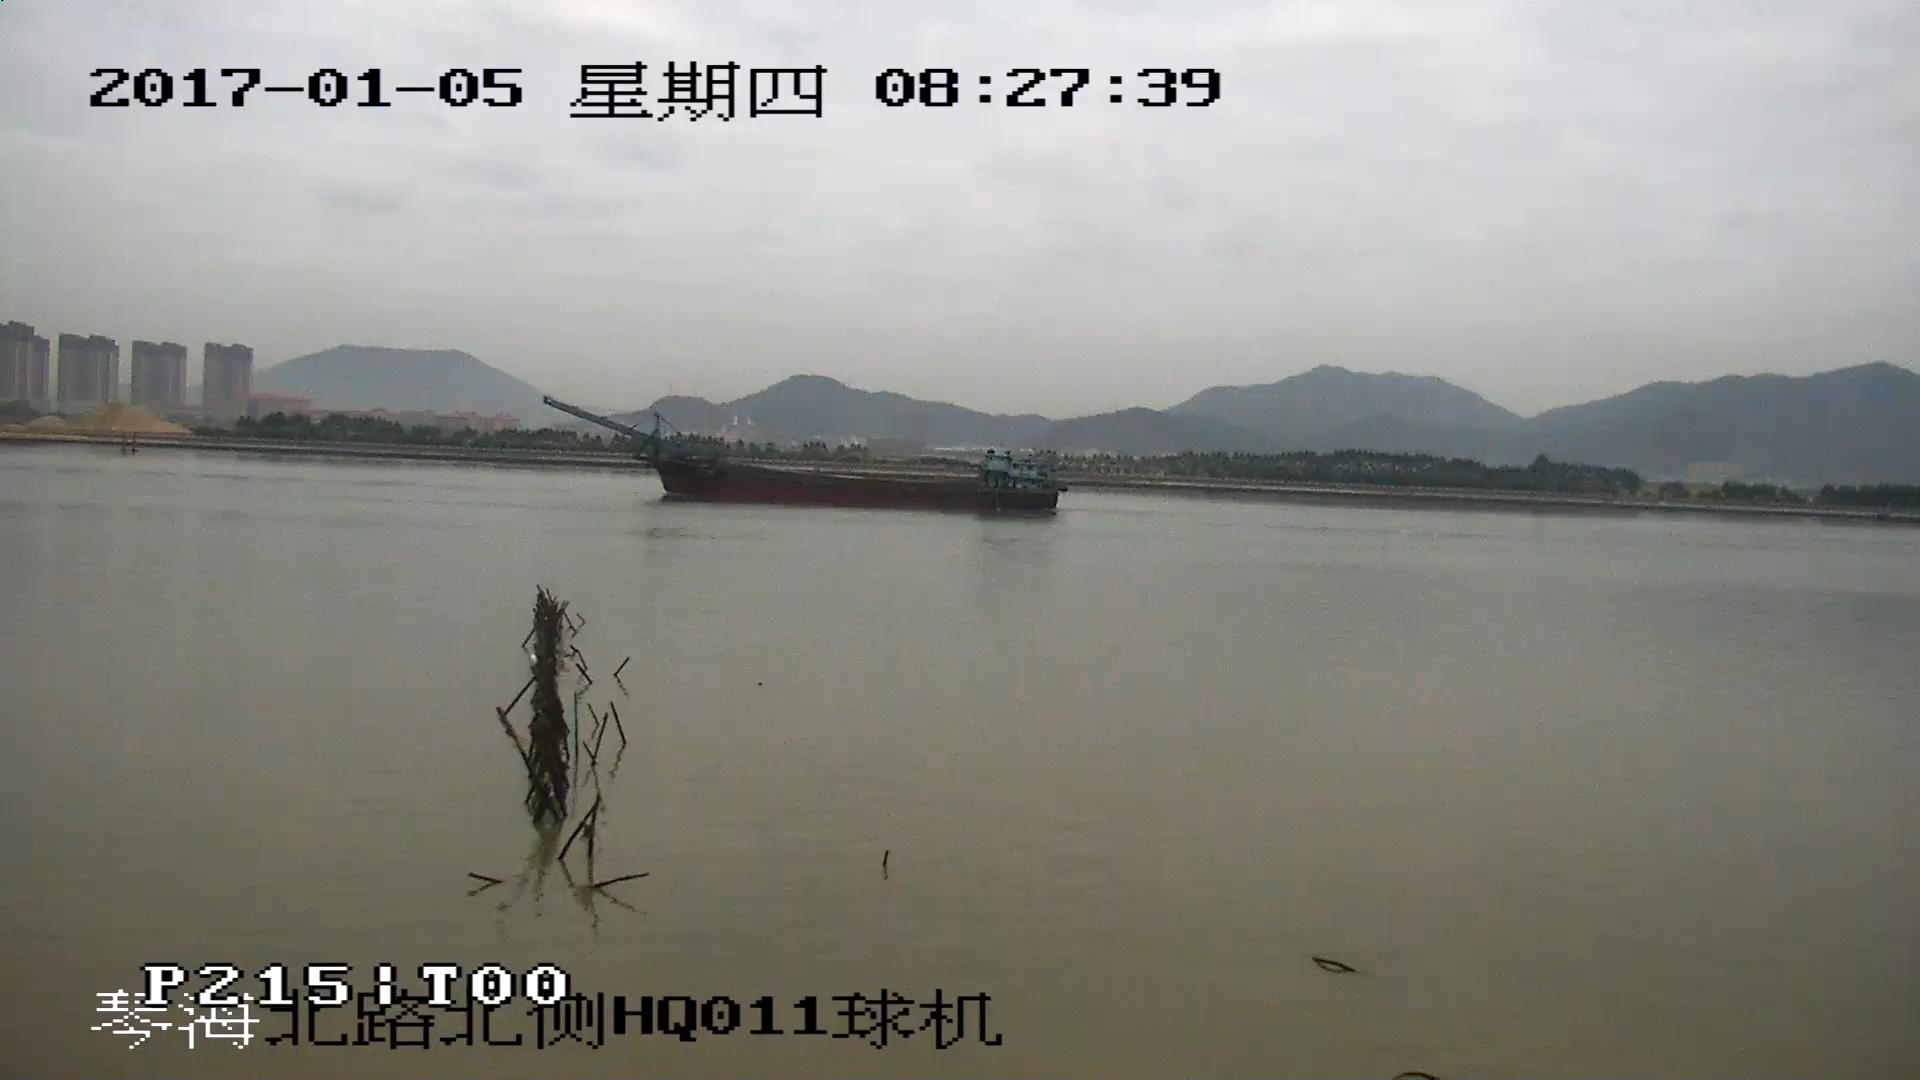bulk cargo carrier: (543, 399, 1062, 513)
